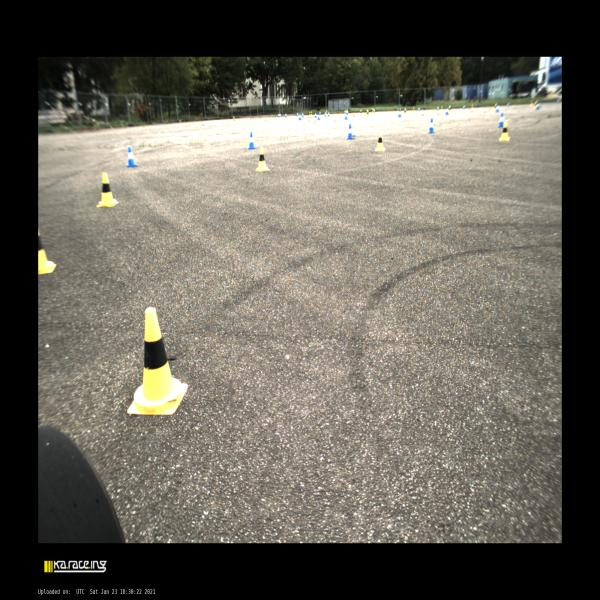blue_cone: (127, 146, 139, 167), (248, 132, 256, 150), (347, 124, 355, 140), (428, 118, 435, 134), (497, 113, 504, 128), (398, 108, 402, 118), (536, 102, 540, 111), (496, 105, 500, 113), (444, 107, 448, 115), (344, 112, 348, 120), (317, 113, 321, 120), (327, 111, 330, 117), (298, 114, 301, 120), (324, 111, 326, 117), (302, 112, 304, 118), (284, 112, 286, 118), (437, 106, 439, 111), (315, 112, 317, 117), (278, 113, 280, 118), (418, 107, 420, 111), (463, 105, 465, 109), (319, 111, 321, 115), (297, 112, 298, 116), (280, 113, 281, 117)
yellow_cone: (127, 307, 188, 415), (38, 228, 56, 276), (96, 172, 119, 208), (255, 146, 270, 171), (374, 132, 386, 152), (499, 120, 510, 141), (533, 101, 537, 110), (493, 103, 497, 111), (403, 108, 407, 115), (530, 100, 533, 107), (366, 110, 369, 117), (440, 106, 443, 112), (412, 106, 415, 112), (308, 112, 311, 117), (449, 106, 451, 113), (360, 109, 362, 116), (373, 109, 375, 115), (471, 104, 473, 109), (397, 107, 399, 112), (310, 111, 312, 116), (347, 111, 348, 117), (326, 111, 327, 116), (372, 108, 373, 113)
